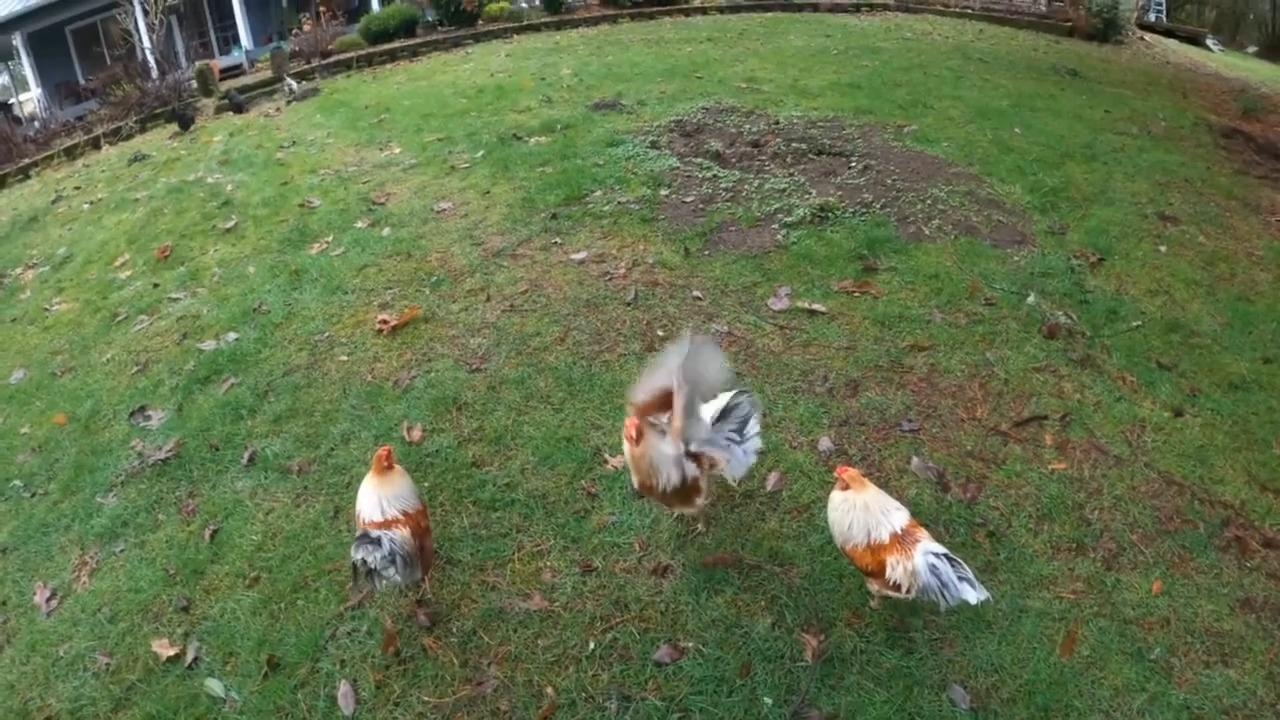Normal: (586, 322, 792, 512), (806, 448, 998, 624), (324, 440, 472, 650)
